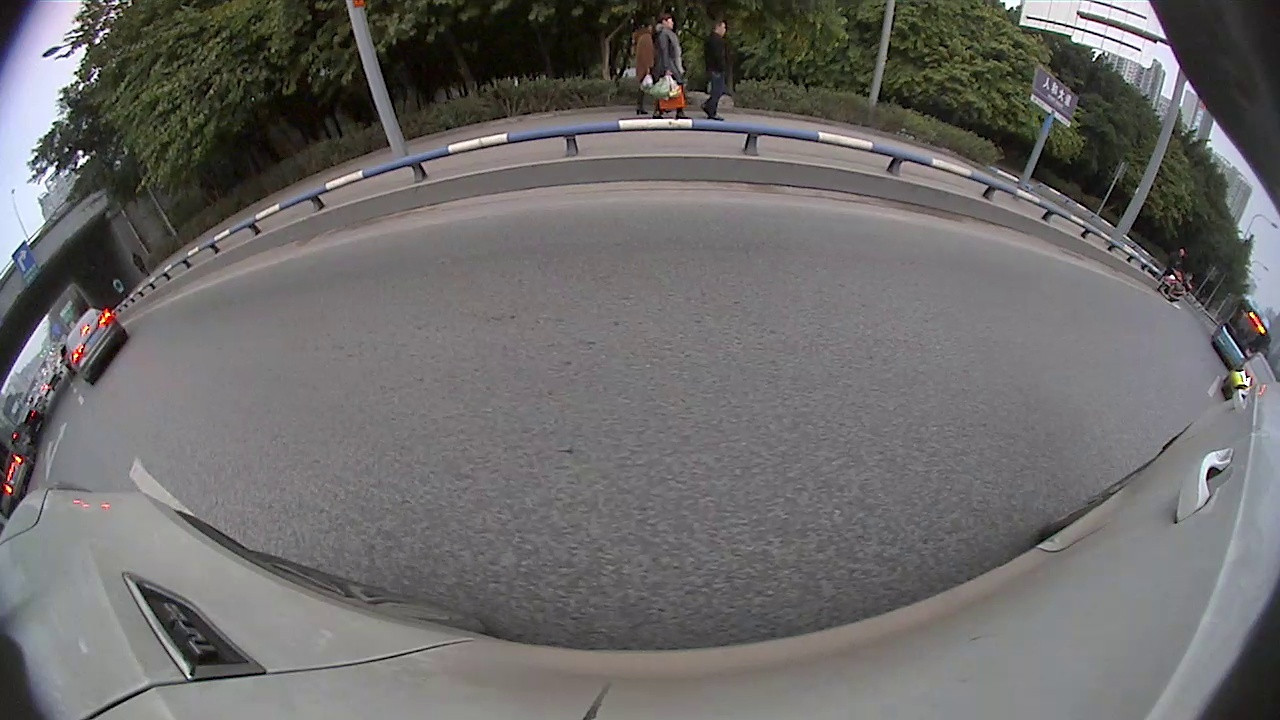bus: (1210, 298, 1273, 373)
car: (63, 305, 131, 386), (1220, 350, 1278, 402), (1, 440, 40, 503)
person: (653, 11, 677, 117), (706, 20, 729, 120), (636, 14, 653, 115), (1167, 247, 1185, 275)
rider: (1160, 271, 1194, 302)
